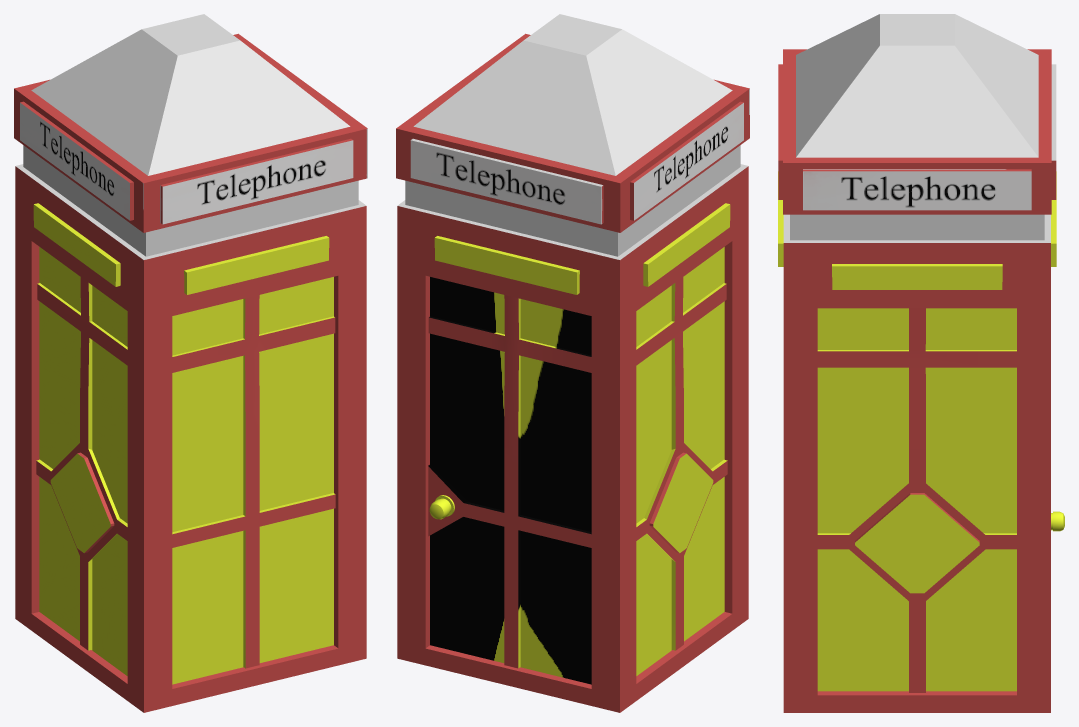
Rendered from Telephone.fbx.
The picture shows the model from 3 angles, left to right: view 1: azimuth 30°, elevation 25°; view 2: azimuth 150°, elevation 25°; view 3: azimuth 270°, elevation 25°; orthographic projection. The views are drawn at different scales.
Visible parts, largest first — view 1: Cube; view 2: Cube; view 3: Cube.
Boxes of the visible parts, x1,y1,x2,y2 form: Cube: (14, 14, 367, 712); Cube: (396, 14, 749, 712); Cube: (778, 14, 1064, 712).
Bounding box in the file's own units: 208 × 518 × 215.
Materials: 4 (3 with a texture image).
